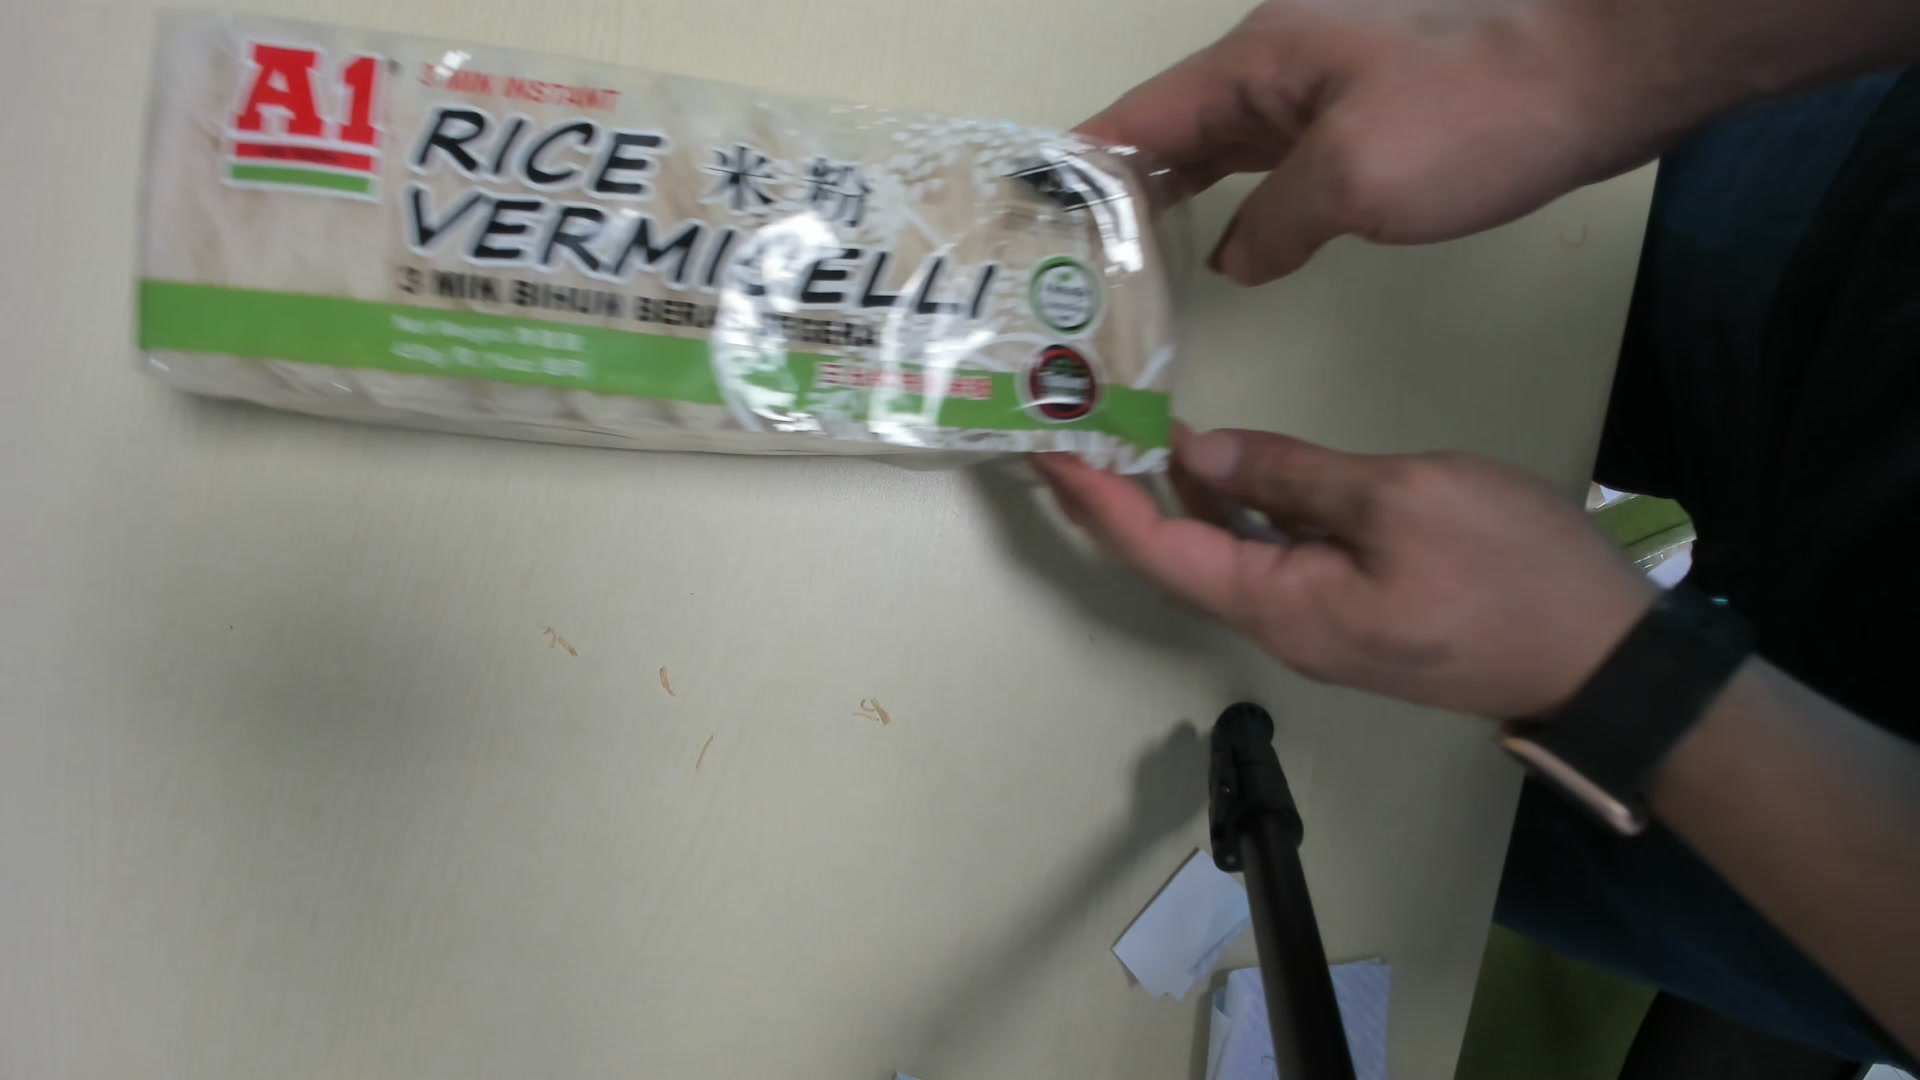BeeHoonVermicelli_400-499g_Halal_NonHealthy: (131, 7, 1175, 472)
